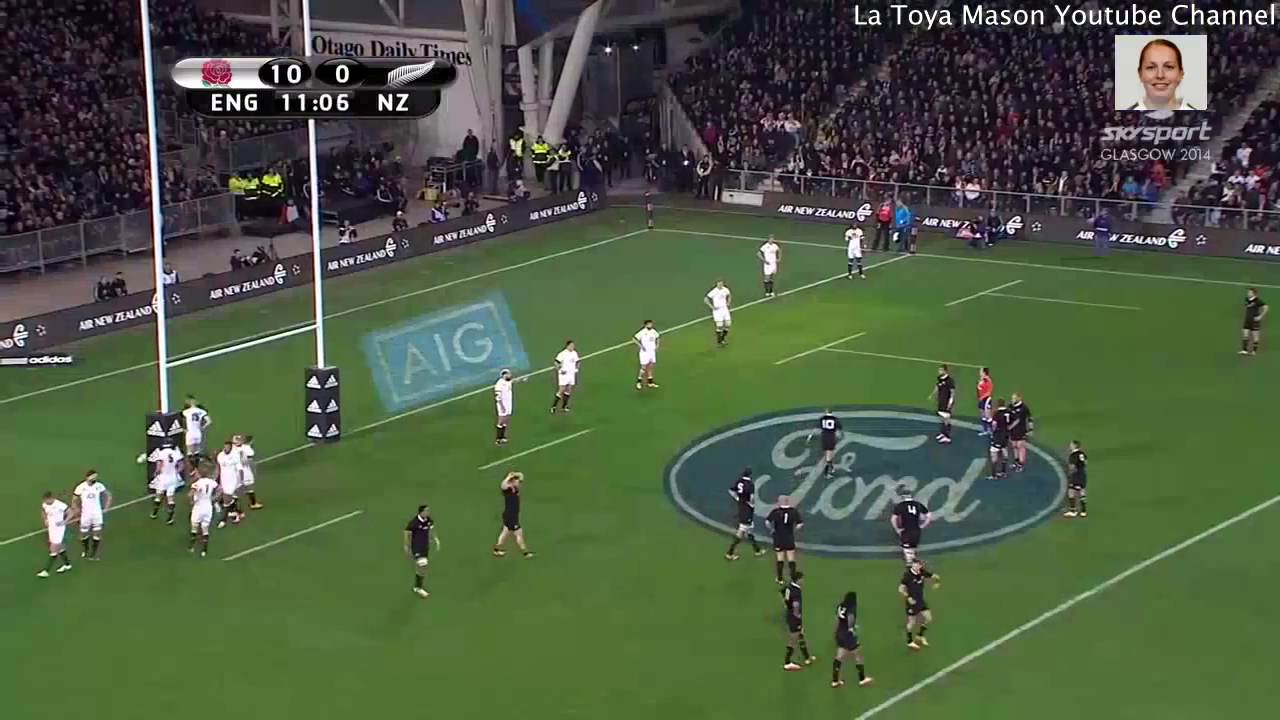player: (490, 468, 547, 566), (143, 436, 199, 525), (398, 503, 444, 610), (829, 587, 873, 694), (776, 568, 819, 672), (722, 465, 768, 562), (69, 471, 113, 559), (37, 487, 77, 580), (183, 470, 222, 564), (898, 557, 936, 653), (891, 487, 931, 571), (1234, 284, 1269, 364), (767, 494, 799, 581), (215, 438, 247, 521), (805, 407, 842, 478), (1058, 437, 1088, 523), (702, 281, 738, 348), (550, 338, 580, 418), (986, 395, 1012, 480), (927, 359, 952, 447), (634, 318, 663, 392), (840, 222, 871, 287), (754, 228, 782, 299), (1007, 392, 1032, 469), (493, 370, 517, 450), (184, 395, 208, 466), (975, 368, 998, 441), (227, 432, 246, 520), (246, 432, 264, 512)
